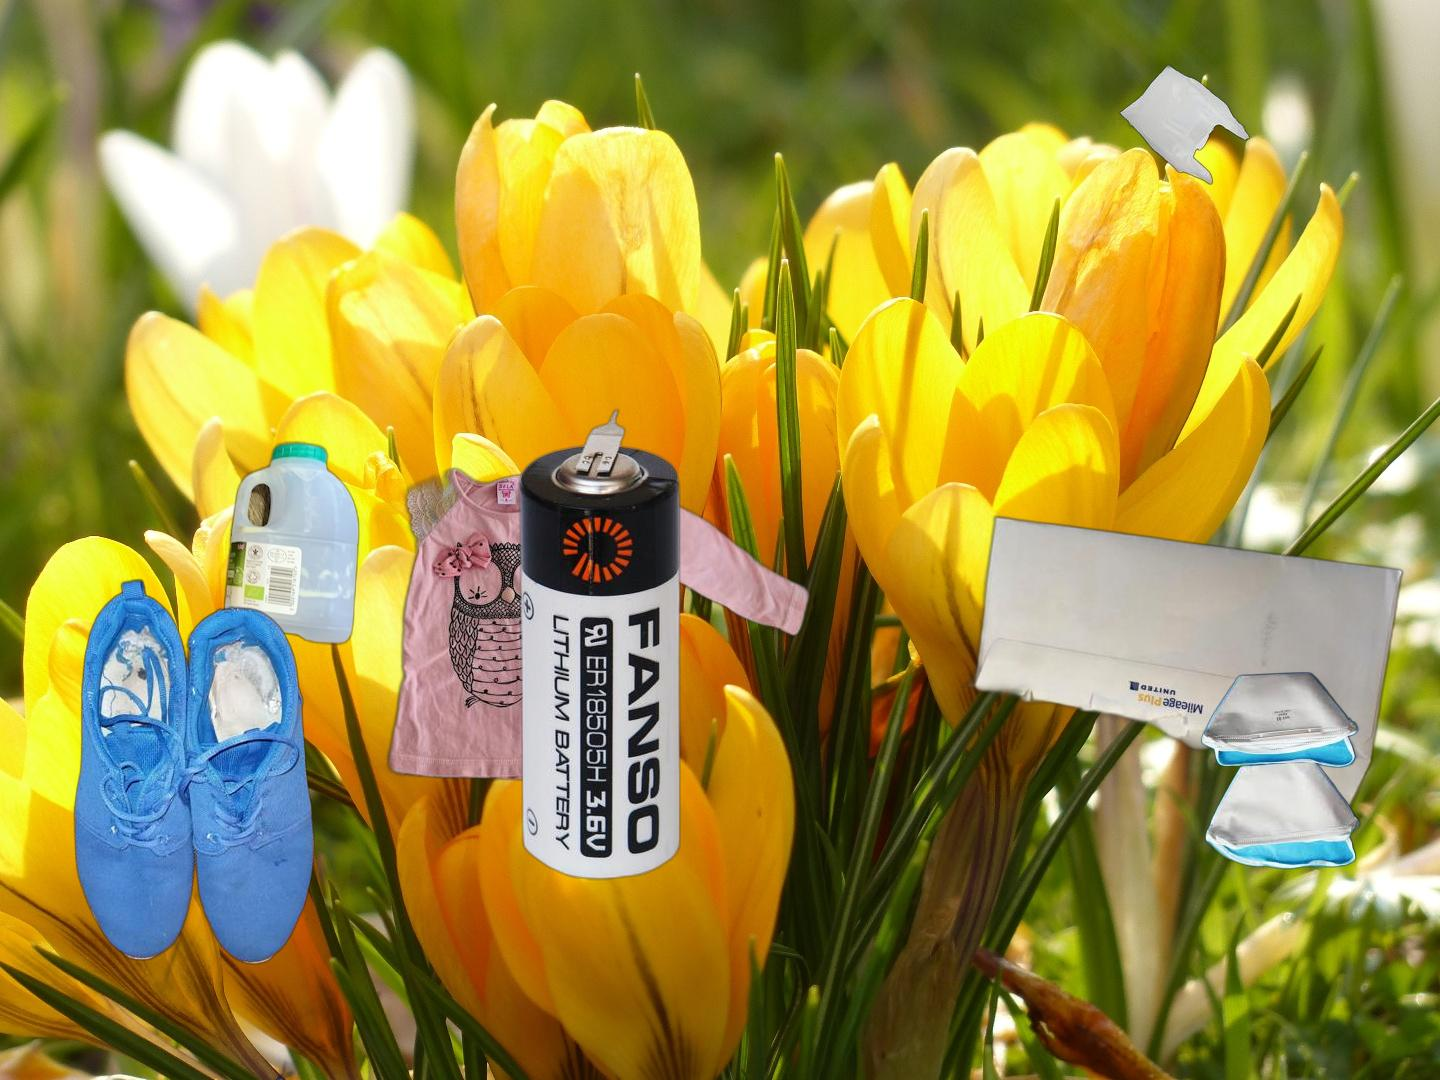battery: (514, 405, 686, 884)
clothes: (203, 459, 815, 783)
paper: (954, 512, 1407, 810)
penholder: (52, 829, 410, 1080)
plastic-bag: (1071, 10, 1252, 187)
plastic-bottles: (219, 434, 364, 649)
shoes: (70, 574, 317, 968)
trash: (1198, 670, 1363, 872)
